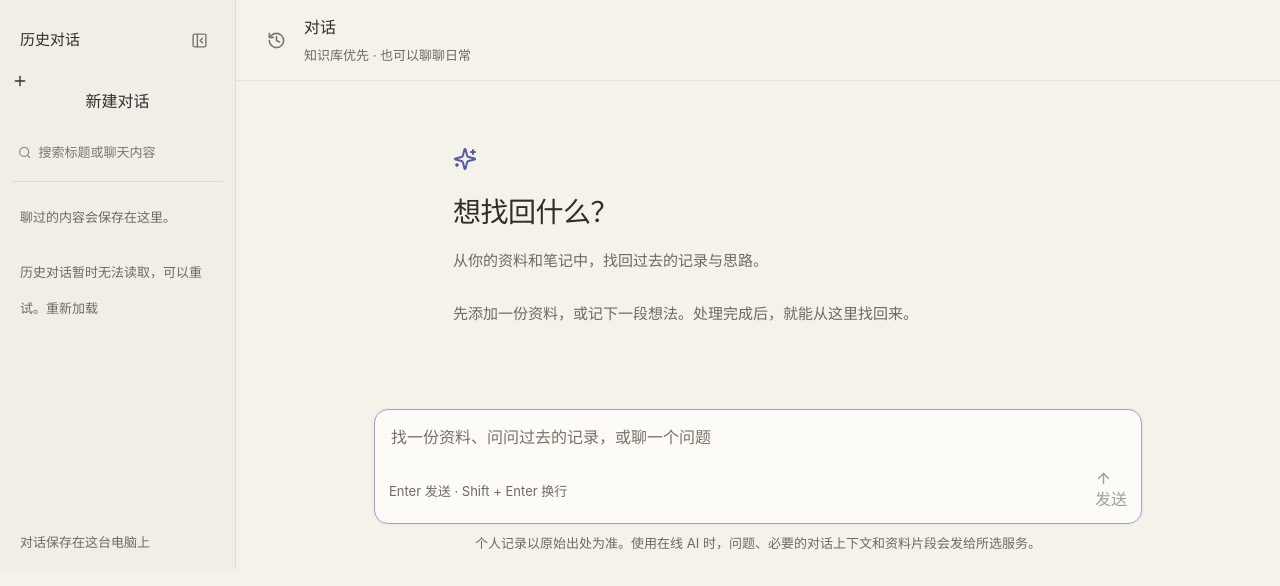
Test case: offers history refresh failures separately from chat errors
Expected: the message shows "历史对话暂时无法读取", left=20, top=264, right=202, bottom=316
Click the button "重新加载" at (72, 308), box left=46, top=292, right=98, bottom=324
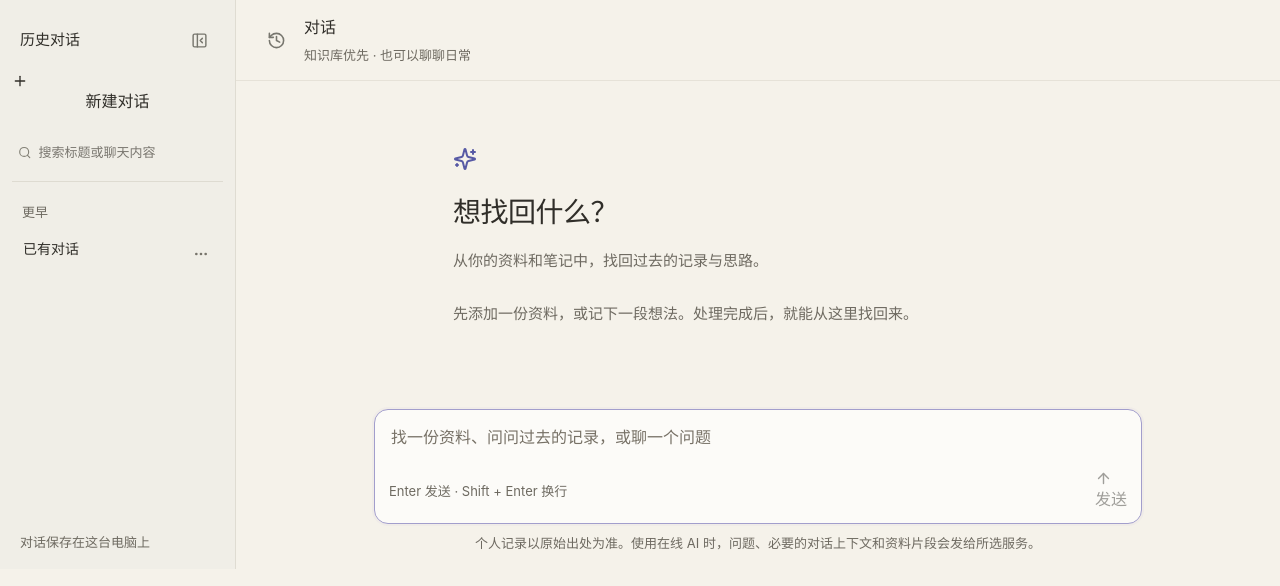
Now the text "已有对话" is shown, box left=23, top=240, right=79, bottom=257
